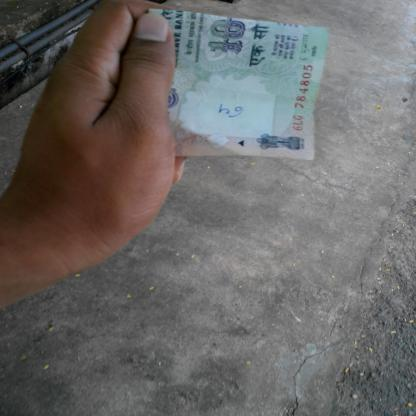Old100Front: (150, 8, 332, 162)
